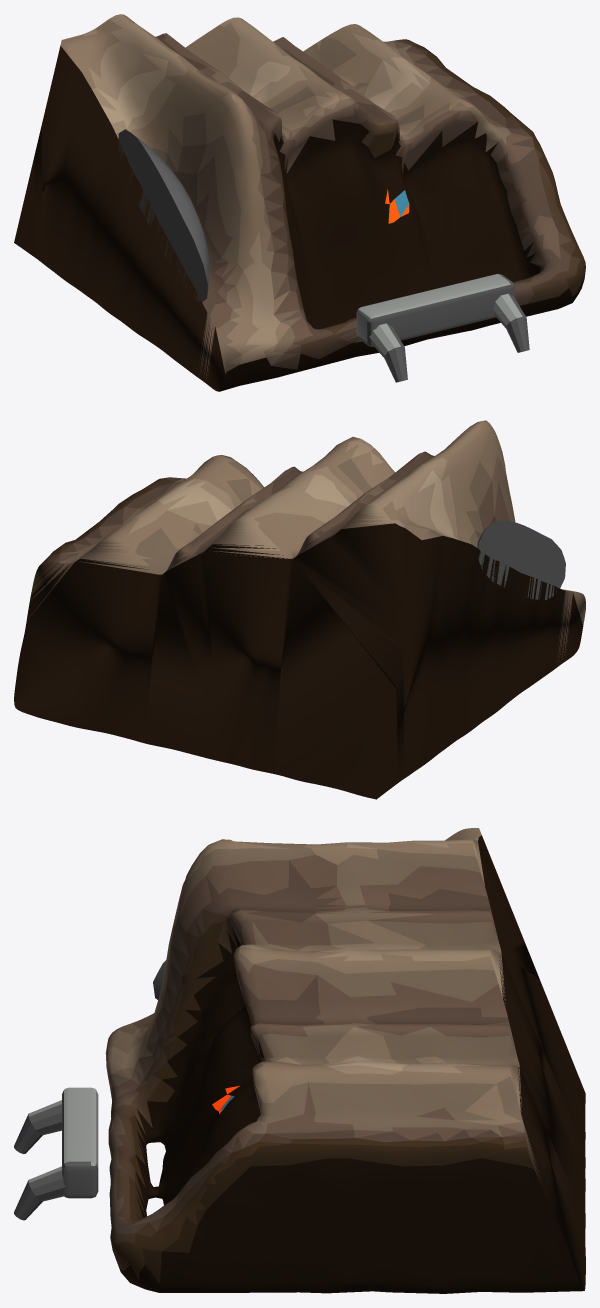
File: drill_rig_br.glb
The picture shows the model from 3 angles, top to bottom: view 1: azimuth 30°, elevation 25°; view 2: azimuth 150°, elevation 25°; view 3: azimuth 270°, elevation 25°; orthographic projection. The views are drawn at different scales.
Visible parts, largest first — view 1: drill_rig_br; view 2: drill_rig_br; view 3: drill_rig_br.
Part boxes in pixels (x1=…): drill_rig_br: x1=14, y1=14, x2=585, y2=391; drill_rig_br: x1=14, y1=420, x2=585, y2=799; drill_rig_br: x1=14, y1=828, x2=585, y2=1293.
Size of the model in its own units: 24.07 by 15.65 by 28.46.
